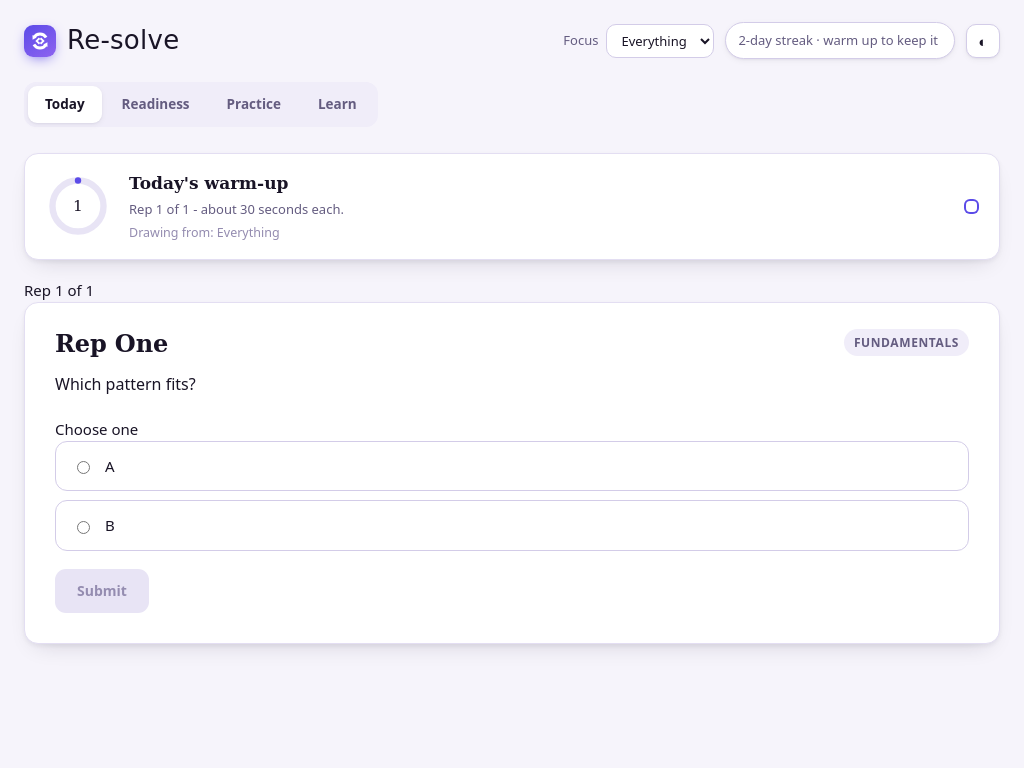
Test: Session (daily loop, issue #19) › completing the warm-up marks the day complete, with no further action
The width and height of the screenshot is (1024, 768).
Click the radio button labelled "A".
click(84, 468)  # box [77,461,90,474]
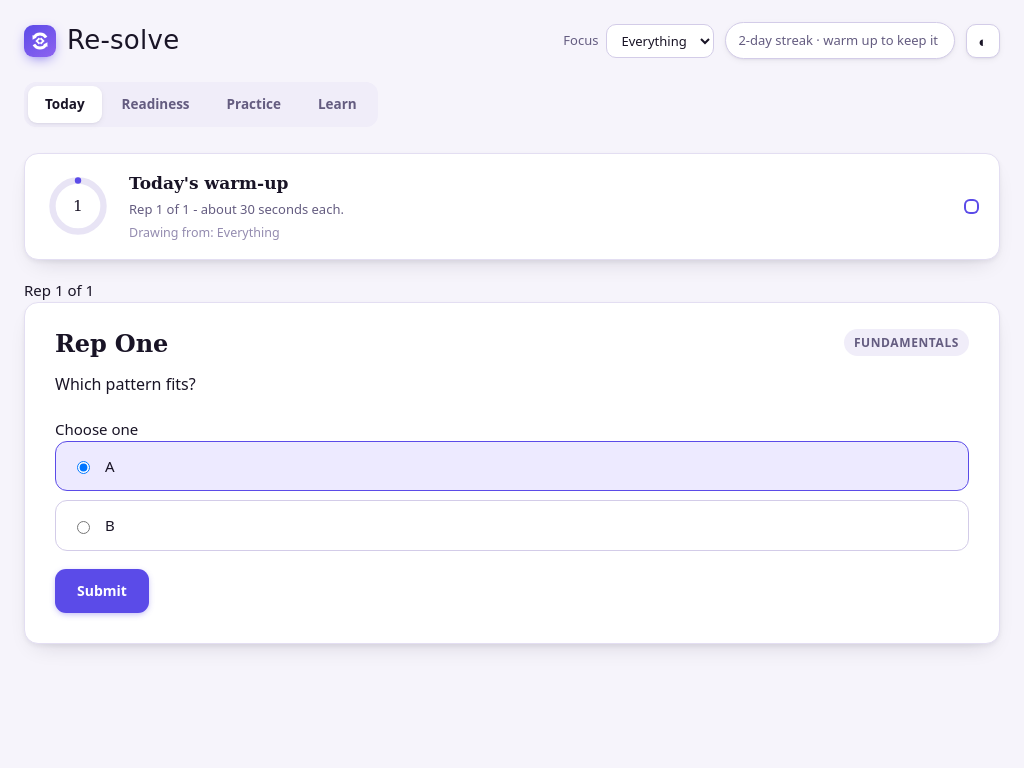
Click the button "Submit".
click(102, 591)  # box [55,569,149,613]
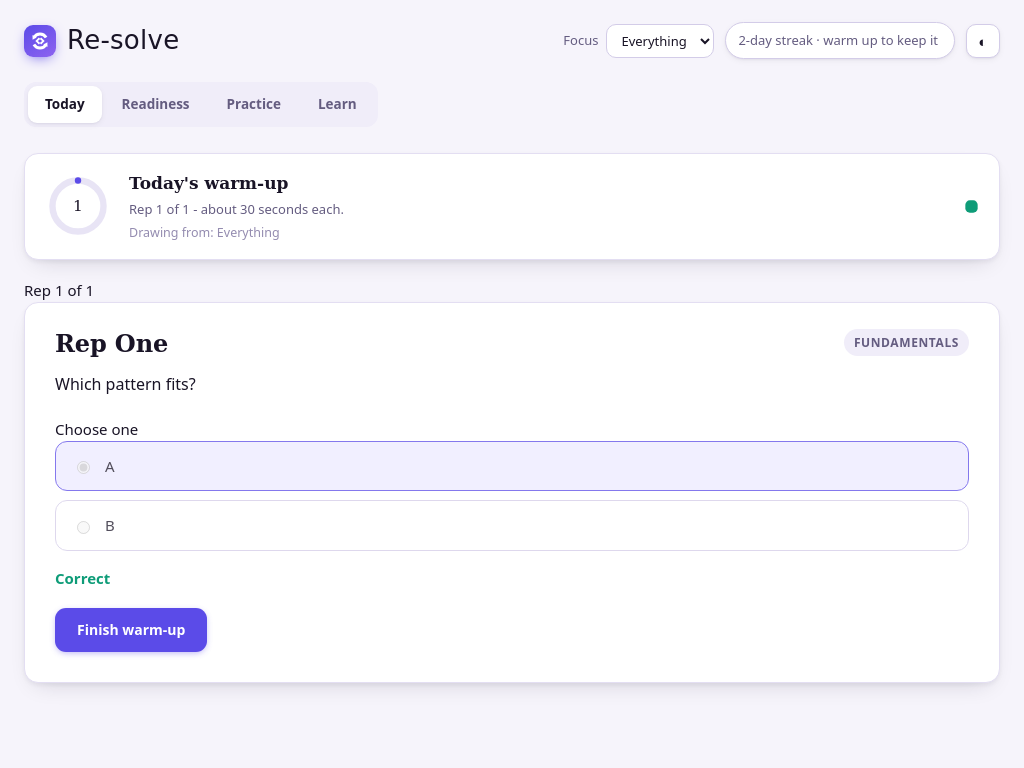
Click the button "Finish warm-up".
click(131, 630)  # box [55,608,207,652]
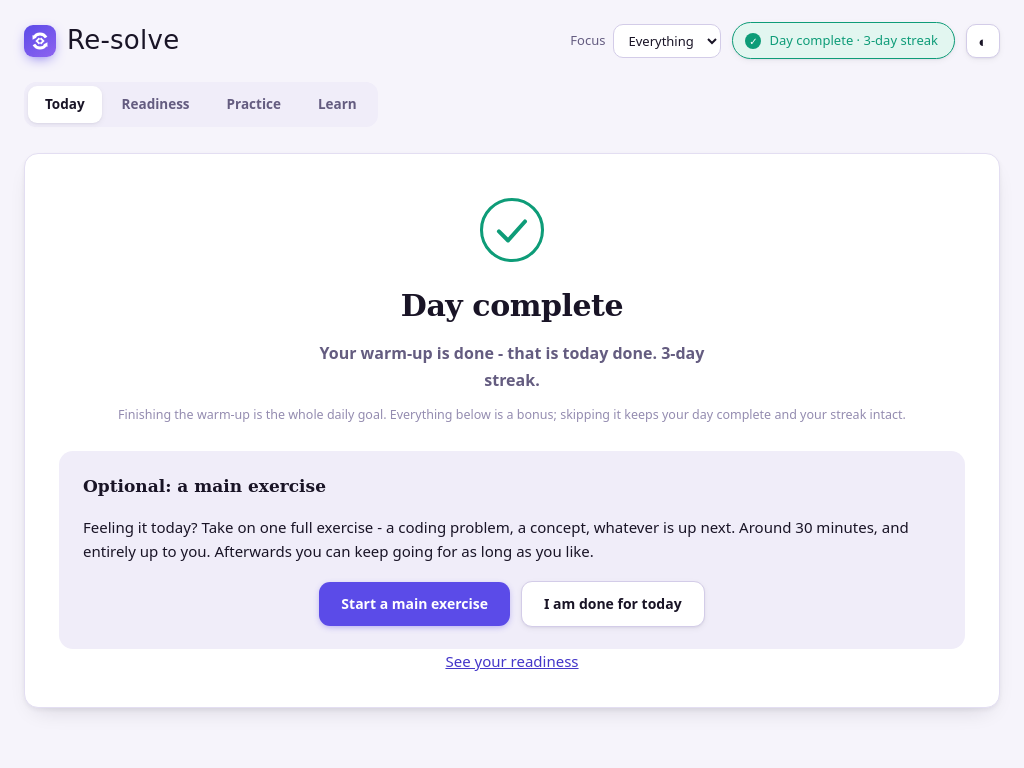
Check: the heading "Day complete" is shown, box [401,288,623,323]
Check: the text "✓ Day complete · 3-day streak" is shown, box [732,22,955,59]
